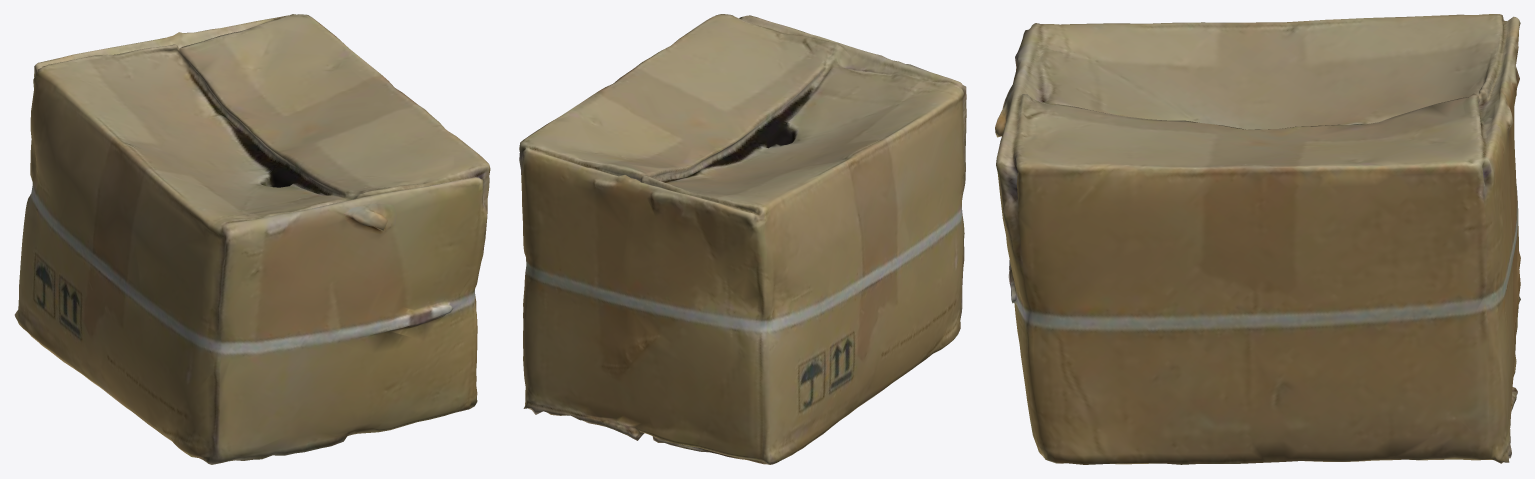
Rendered from cardboard_box.glb.
3 renders of one model, left to right at view 1: azimuth 30°, elevation 25°; view 2: azimuth 150°, elevation 25°; view 3: azimuth 270°, elevation 25°, orthographic. The views are drawn at different scales.
Visible parts, largest first — view 1: cardboard_box_01; view 2: cardboard_box_01; view 3: cardboard_box_01.
Boxes of the visible parts, x1=… form: cardboard_box_01: x1=14, y1=14, x2=490, y2=464; cardboard_box_01: x1=519, y1=14, x2=966, y2=464; cardboard_box_01: x1=995, y1=14, x2=1520, y2=464.
Size of the model in its own units: 0.387 by 0.3418 by 0.5159.
1 material, 1 textured.
